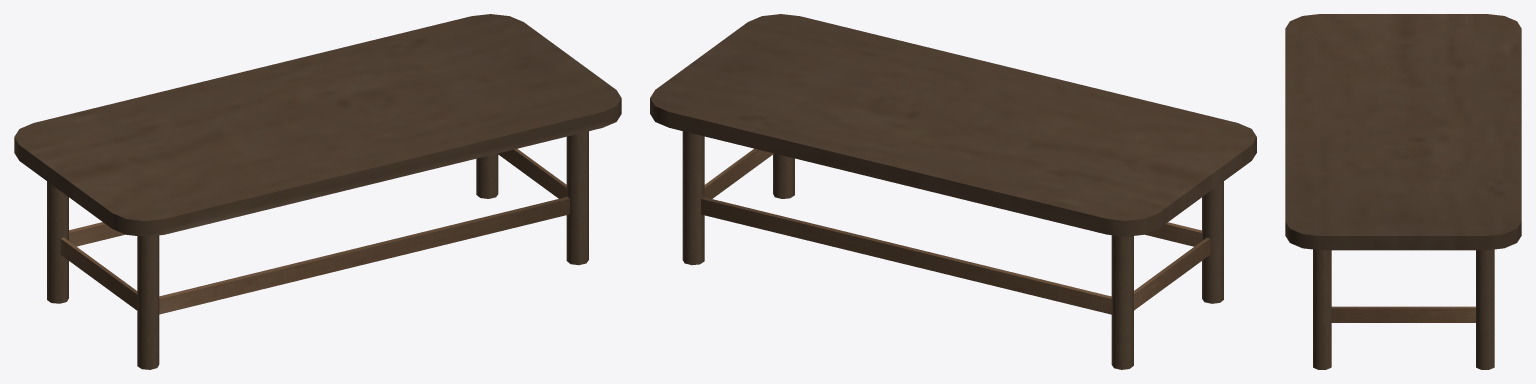
File: furniture2_13.fbx
3 views of the same model, side by side, from view 1: azimuth 30°, elevation 25°; view 2: azimuth 150°, elevation 25°; view 3: azimuth 270°, elevation 25° (orthographic). The views are drawn at different scales.
Parts seen in each view (by area): view 1: polySurface1113; view 2: polySurface1113; view 3: polySurface1113.
Part boxes in pixels (x1,y1,x2,y2): polySurface1113: [14, 14, 621, 369]; polySurface1113: [650, 14, 1256, 369]; polySurface1113: [1285, 14, 1521, 369].
Size of the model in its own units: 200 by 61.54 by 90.
Materials: 1 (1 with a texture image).
